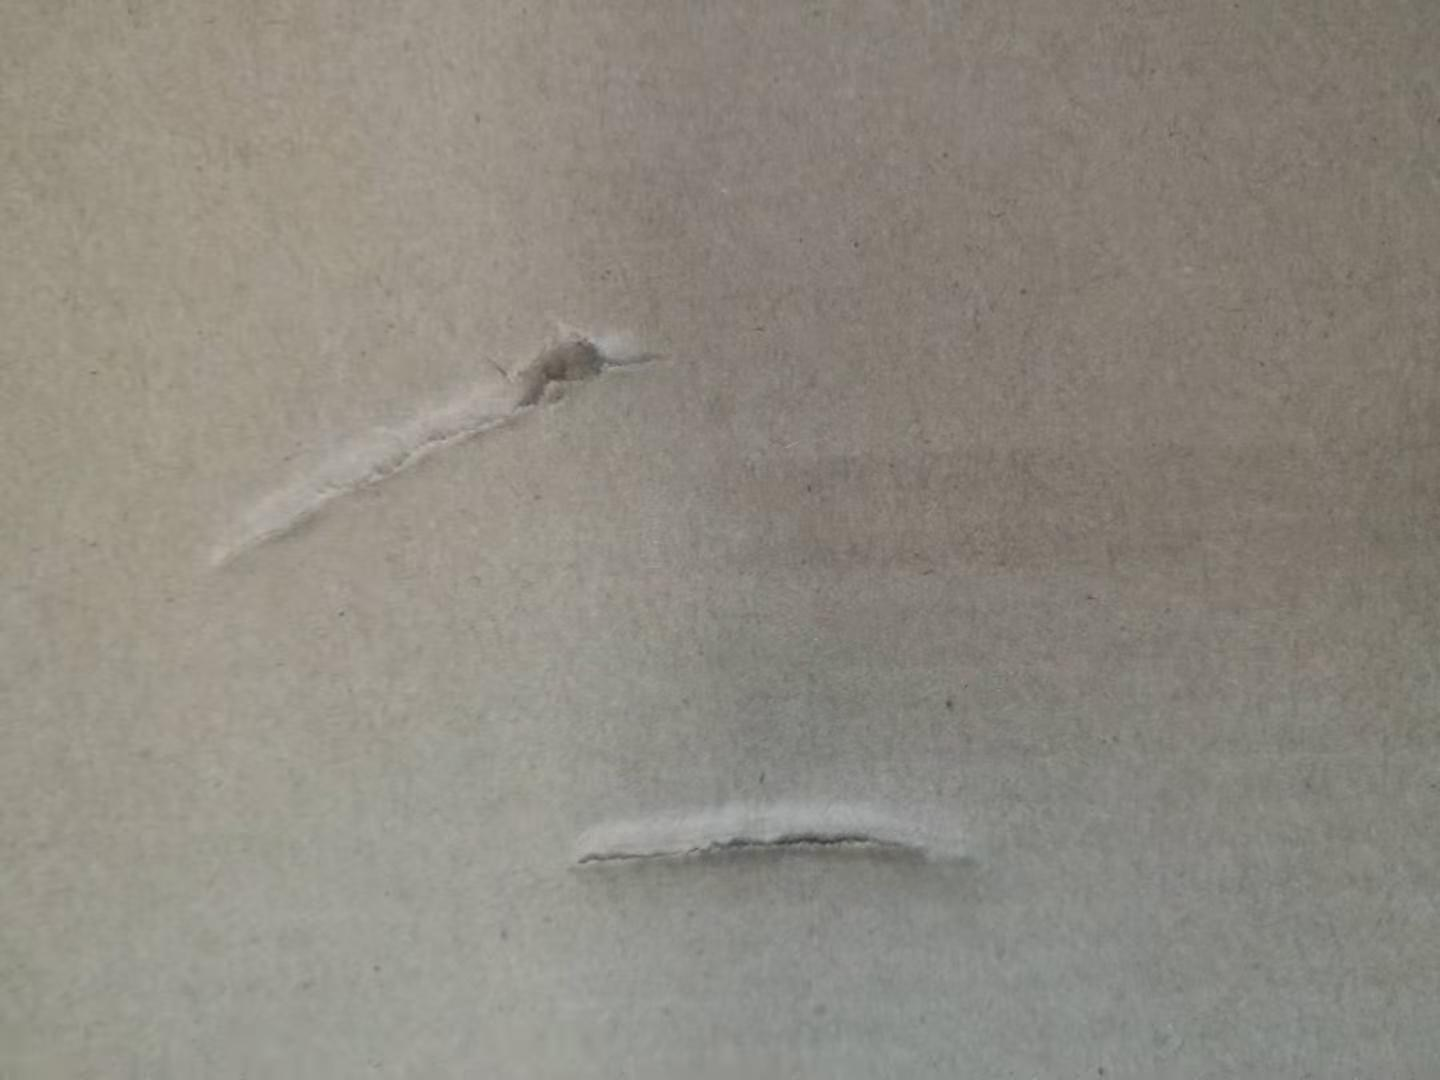defect: (175, 273, 712, 587), (544, 752, 1009, 950)
